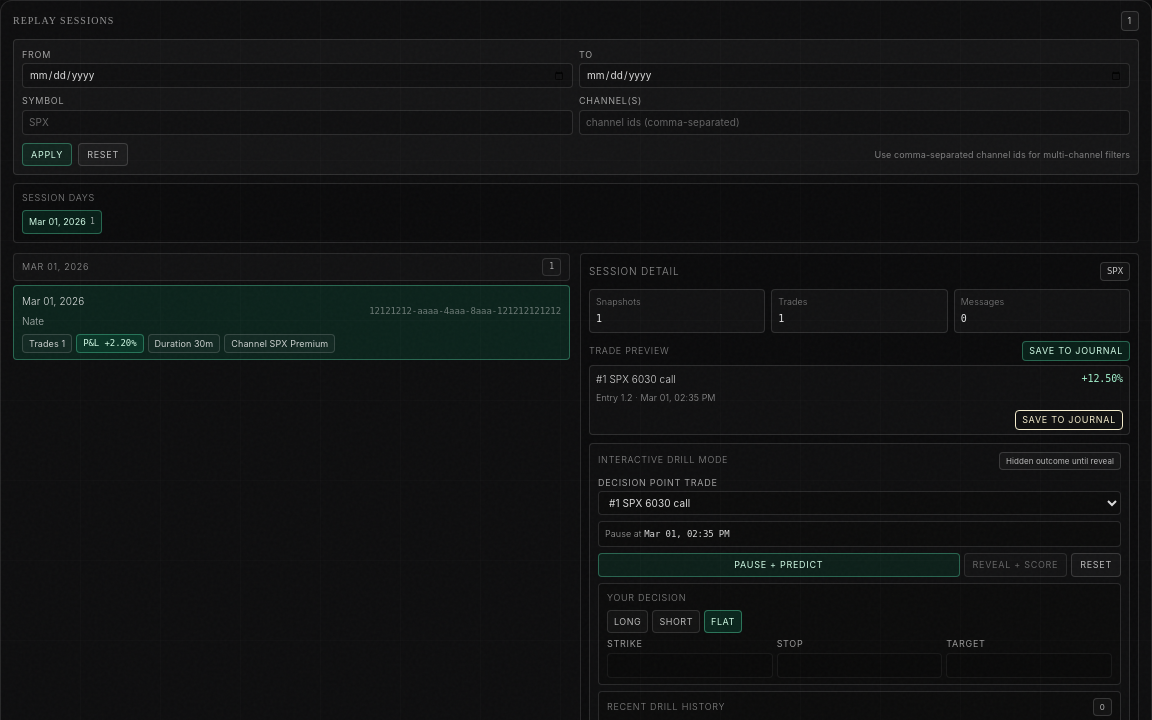
Scenario: spx-command-center/replay-session-browser › wires Save to Journal action to replay journal endpoint and shows deterministic success copy
The image size is (1152, 720).
Expected: the text "#1 SPX 6030 call" is shown, top-left (596, 370), bottom-right (676, 388)
Step 1. Click the button with test id "spx-replay-save-journal-session" → (1076, 351), box top-left (1022, 341), bottom-right (1130, 361)
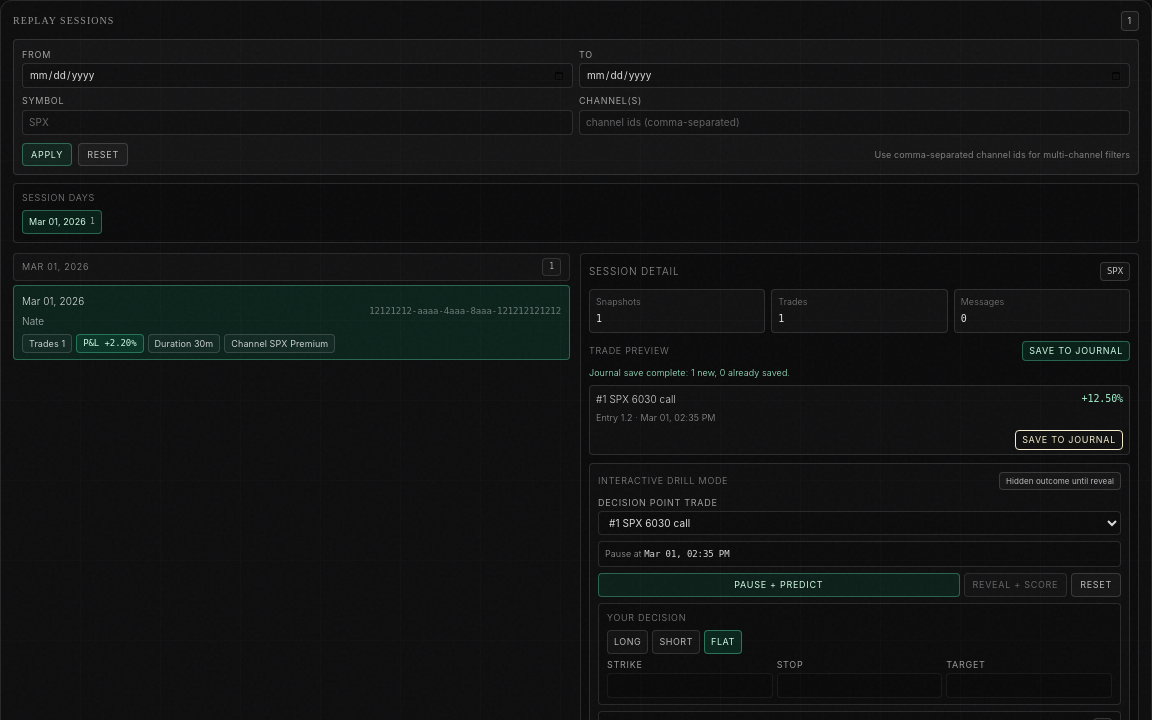
Now the text with test id "spx-replay-save-journal-status" reads "Journal save complete: 1 new, 0 already saved.", box top-left (589, 367), bottom-right (790, 378)
